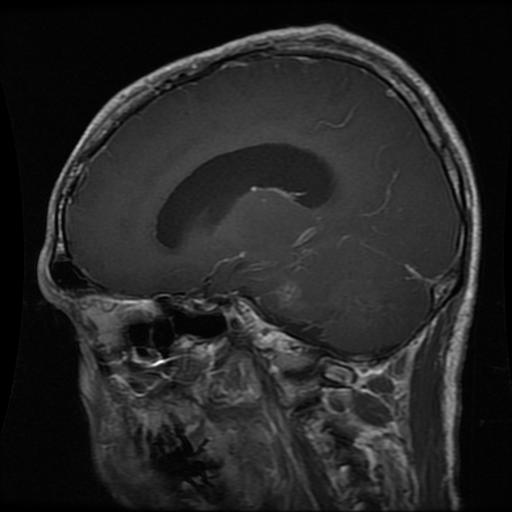Gliomia_tumour: (273, 275, 302, 307)
